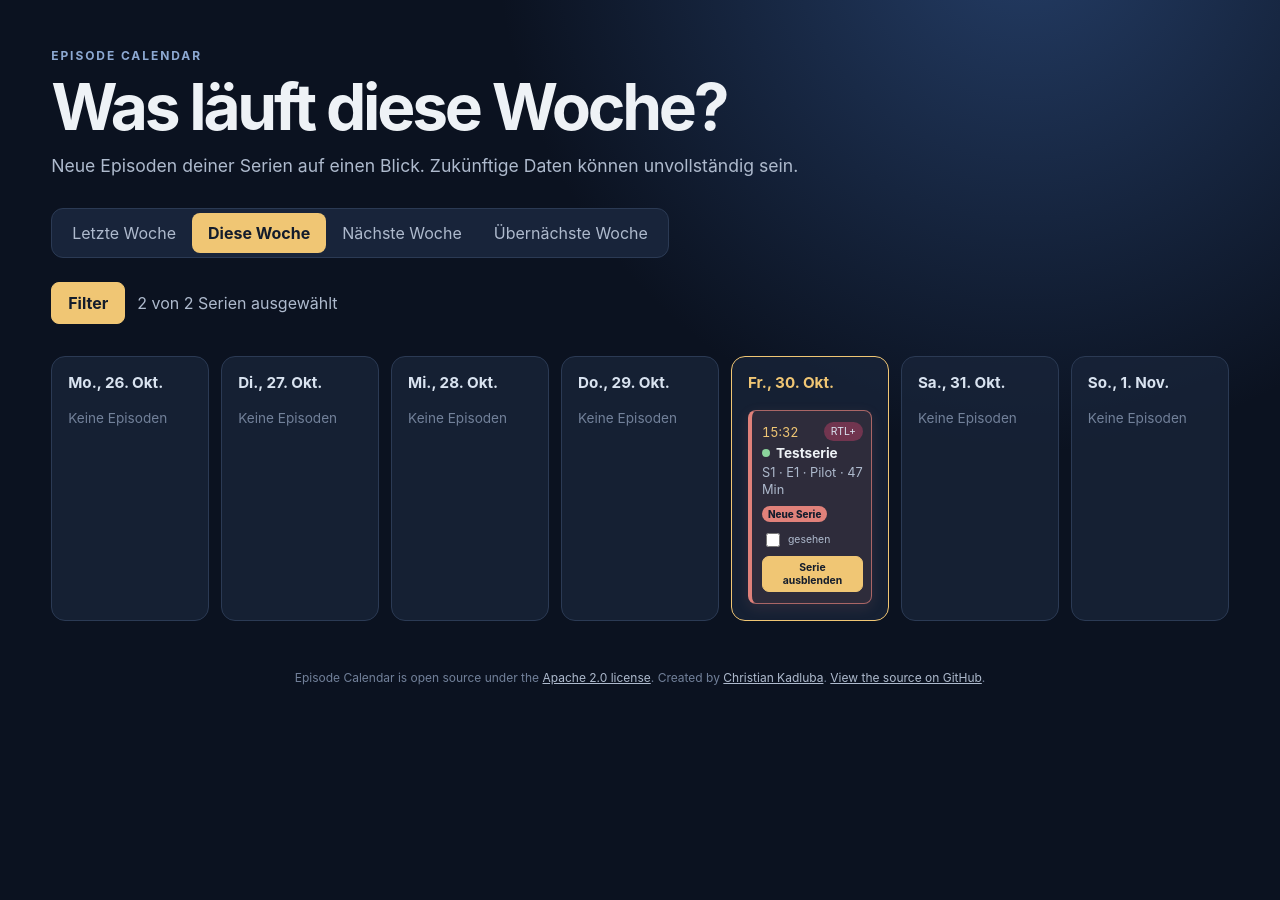
App preferences › keeps the series when the hide confirmation is declined
expect the text "S1 · E1 · Pilot · 47 Min" is shown: met, box x1=762 y1=465 x2=863 y2=499
expect the text "Pilot" is shown: met, box x1=762 y1=422 x2=863 y2=522
Click the button "Serie ausblenden". click: coordinates (812, 574)
box: x1=762 y1=556 x2=863 y2=592
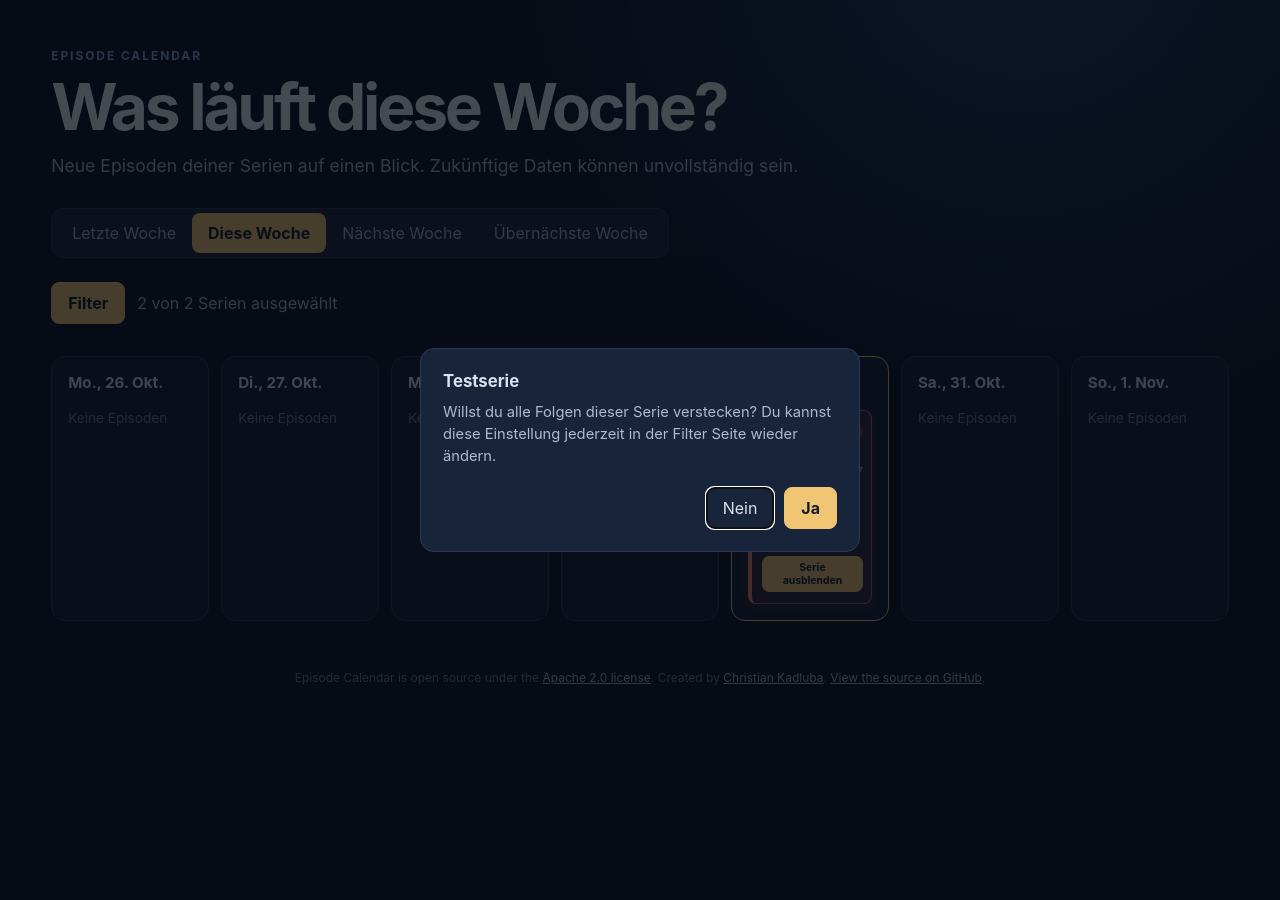
expect the text "S1 · E1 · Pilot · 47 Min" is shown: met, box x1=762 y1=465 x2=863 y2=499
expect the dialog "Testserie" shows "Willst du alle Folgen dieser Serie verstecken? Du kannst diese Einstellung jederzeit in der Filter Seite wieder ändern.": met, box x1=443 y1=403 x2=831 y2=465
Click the button "Nein". click: coordinates (740, 508)
box: x1=706 y1=487 x2=774 y2=529
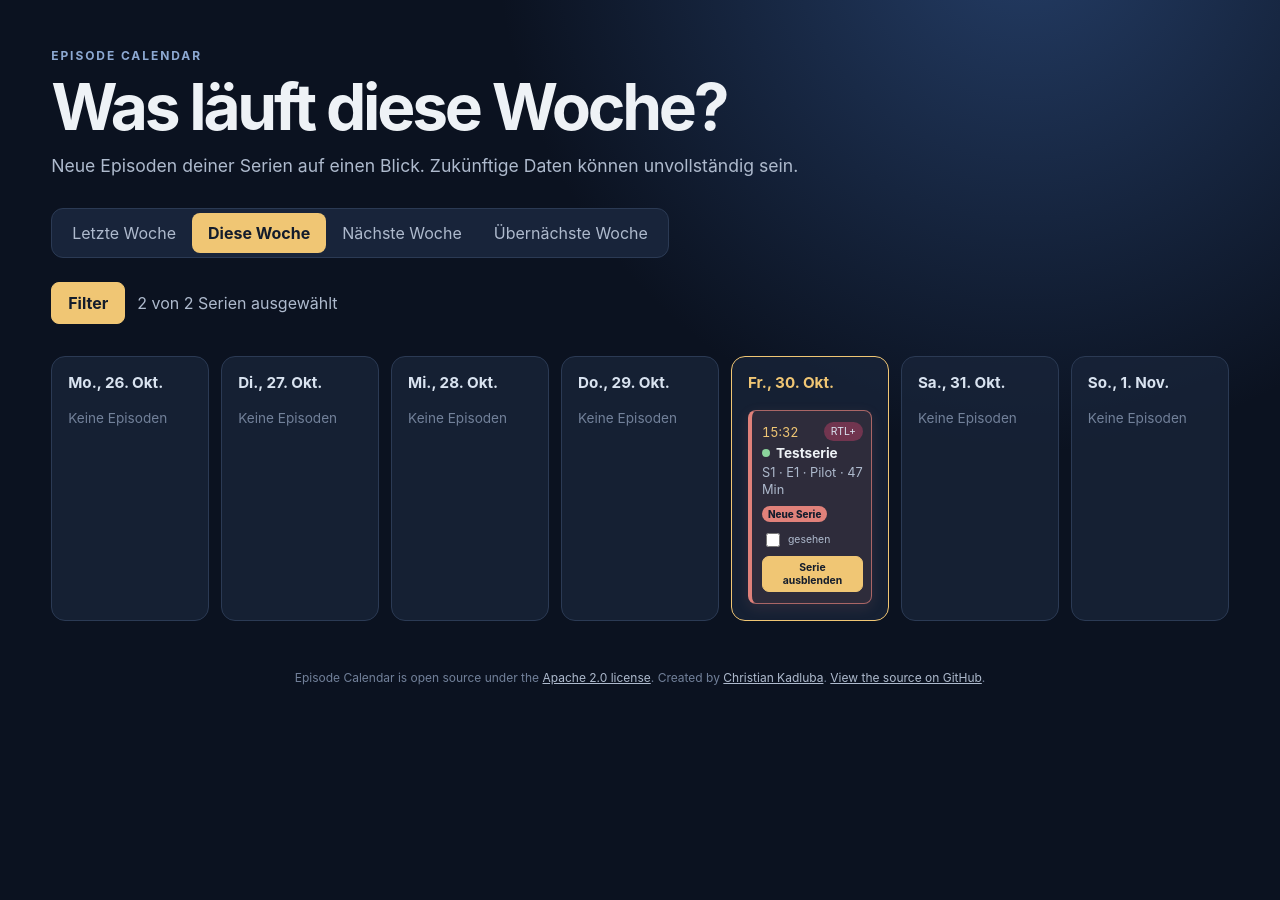
expect the text "S1 · E1 · Pilot · 47 Min" is shown: met, box x1=762 y1=465 x2=863 y2=499
expect the dialog is gone: met
